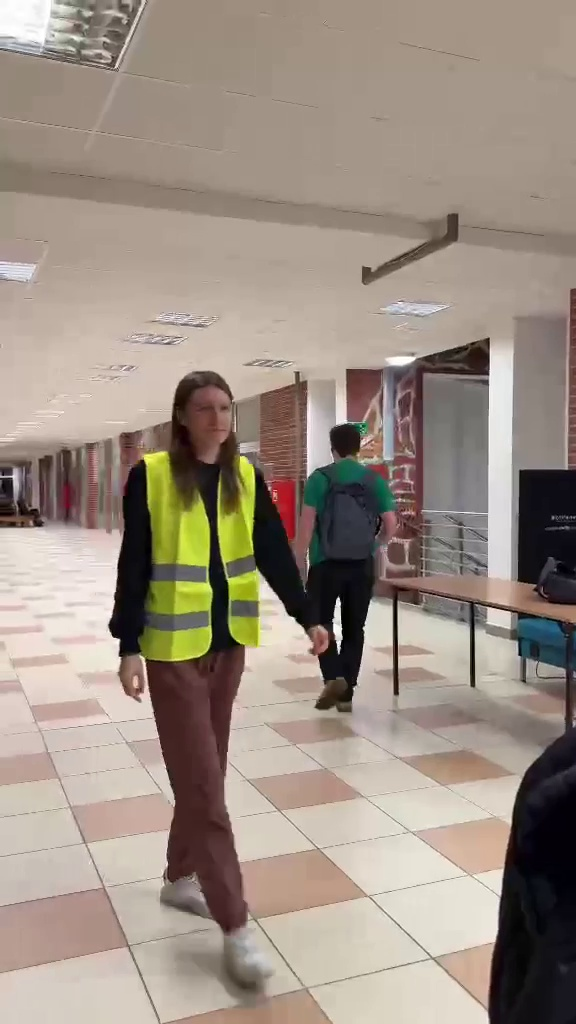no vest: (300, 411, 384, 711)
vest: (113, 367, 314, 989)
